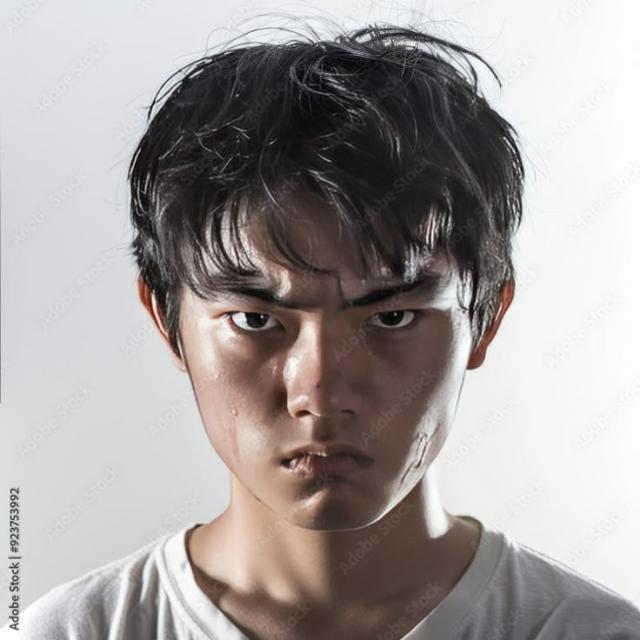sem_oculos: (129, 274, 541, 361)
